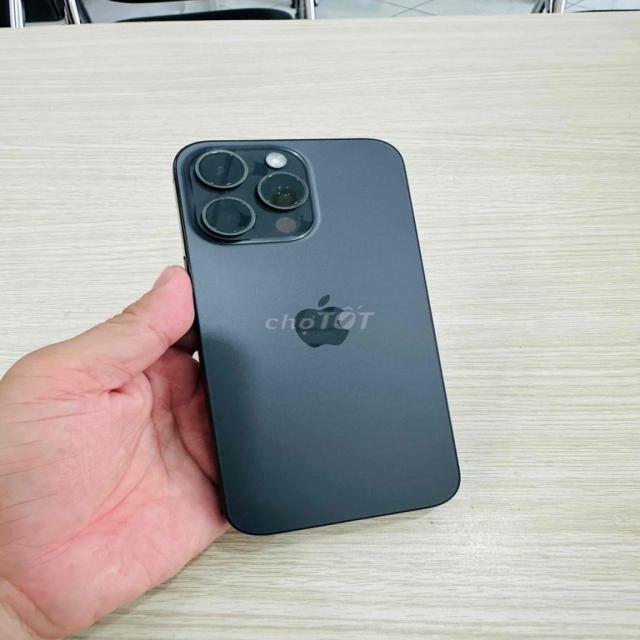gen_15: (153, 116, 487, 533)
